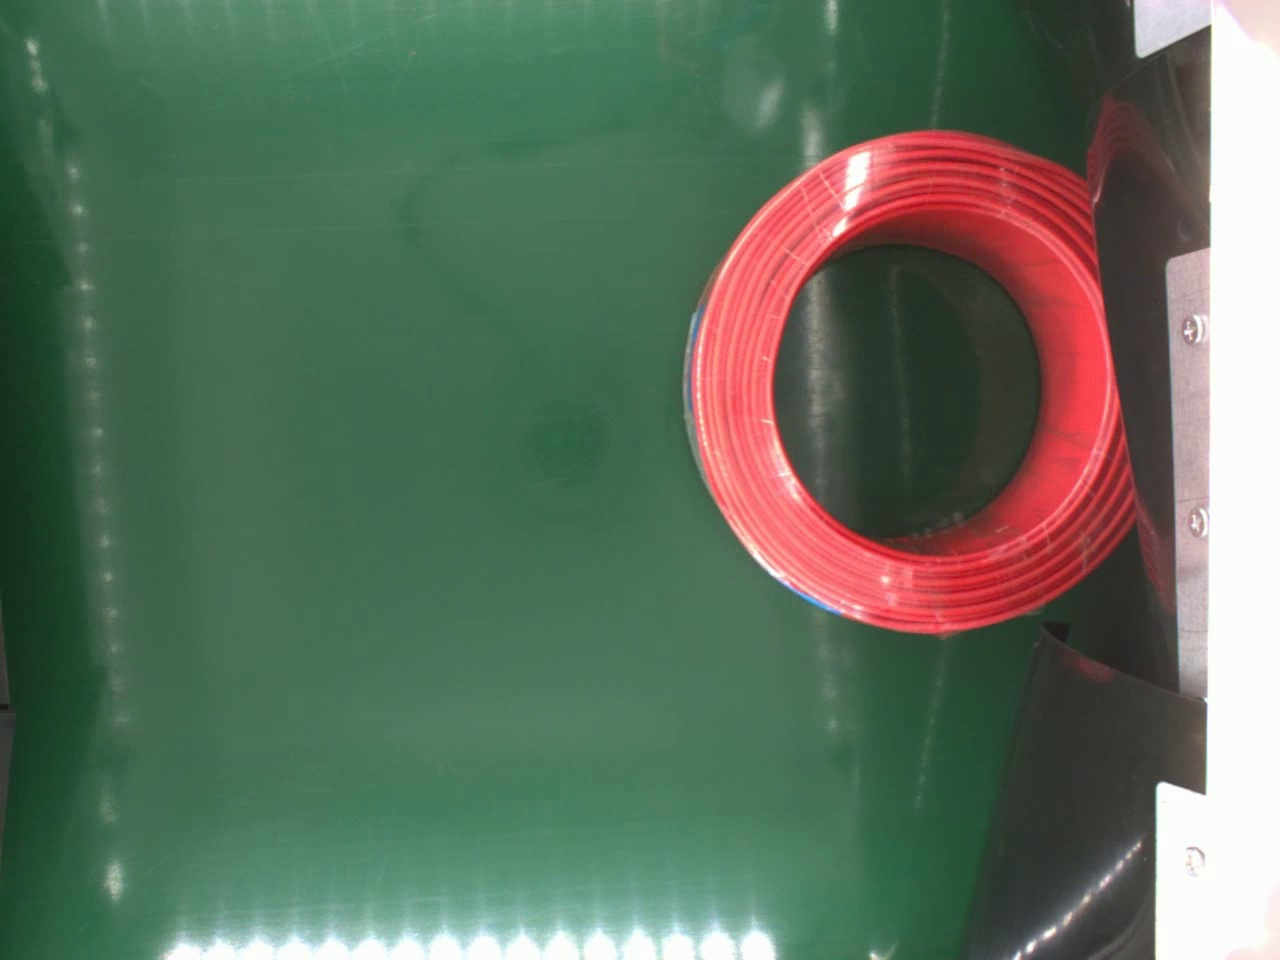red: (678, 125, 1136, 640)
